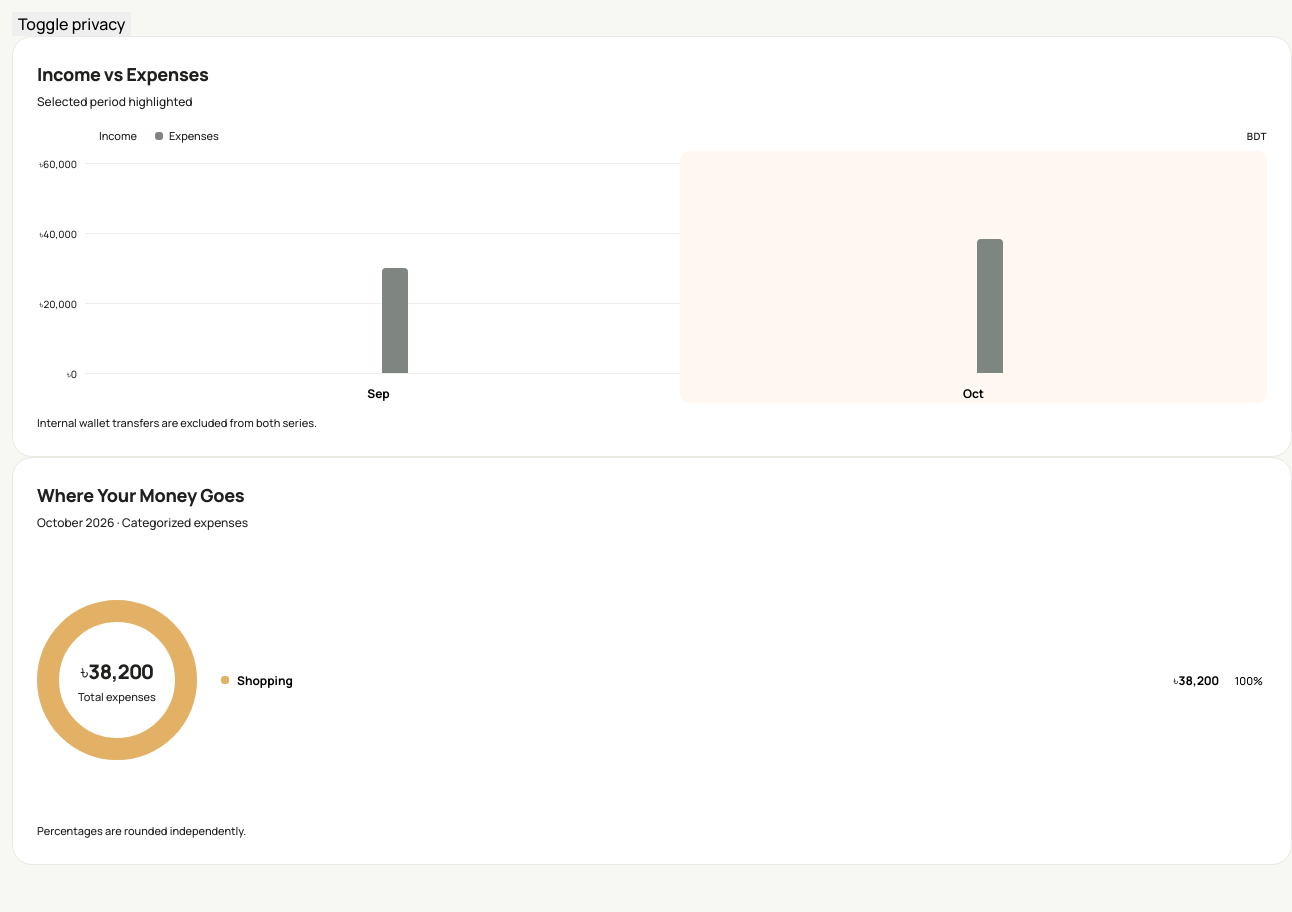
it: Insights accessible charts › provides focus tooltips and removes them on Escape
Step 1. Focus the button with aria-label "October 2026, selected period: income ৳52,000" → x=990, y=306, box [680,151,1267,403]
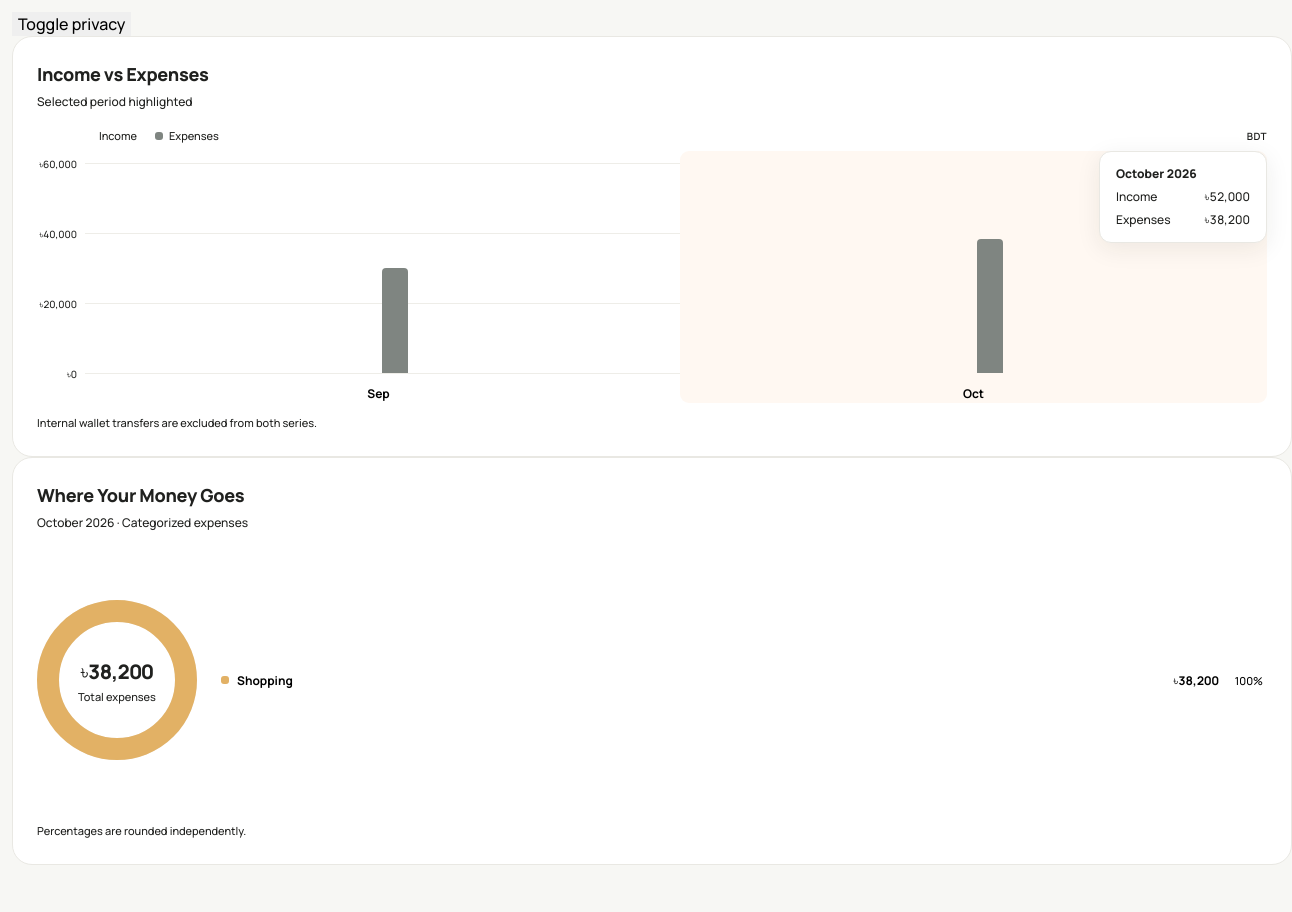
Check: the tooltip shows "Income ৳52,000", box [1099,151,1267,243]
Step 2. Press Escape in the button with aria-label "October 2026, selected period: income ৳52,000", box [680,151,1267,403]
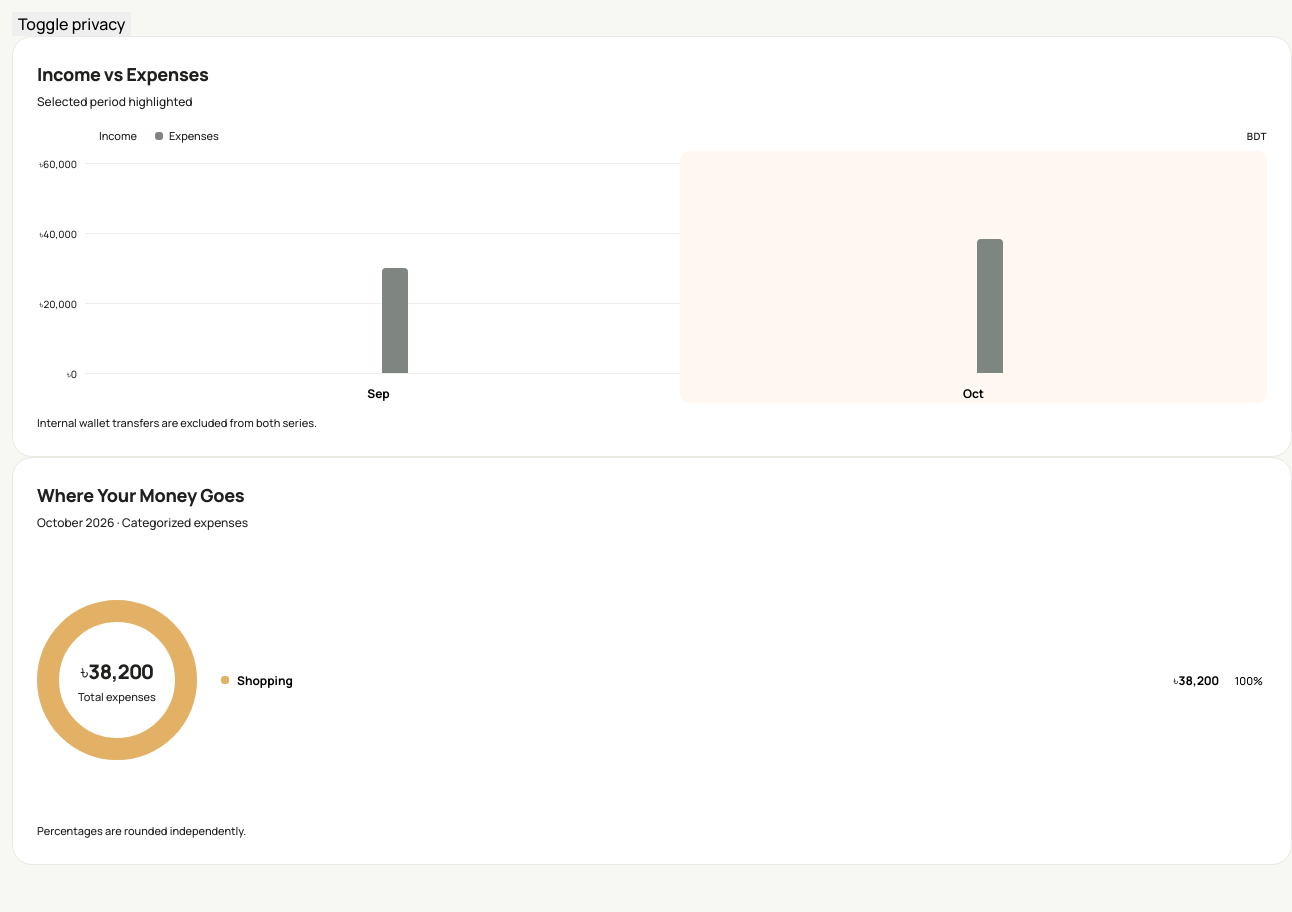
Check: the tooltip "October 2026 Income ৳52,000 Expenses ৳38,200" is gone
